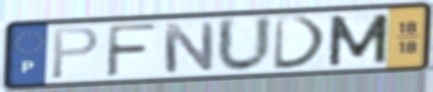D: (271, 14, 331, 72)
F: (103, 22, 160, 79)
M: (325, 12, 391, 68)
N: (160, 20, 217, 76)
P: (49, 25, 102, 81)
U: (214, 14, 275, 75)
